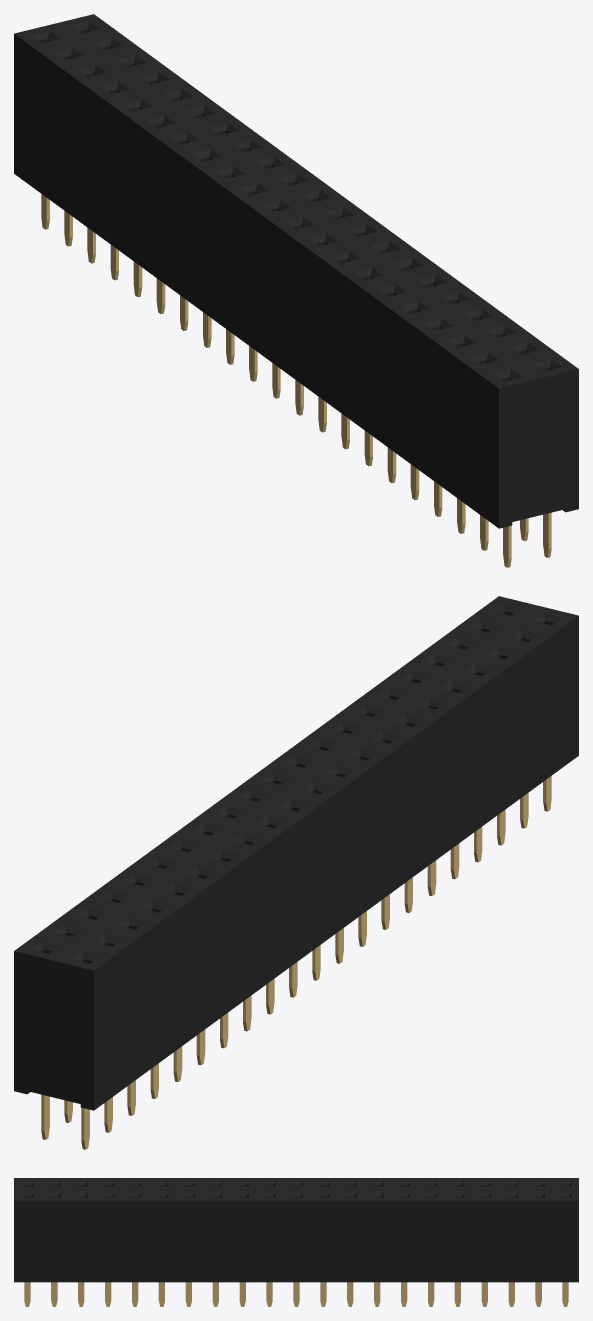
The model's file is kc-pinsocket_2x21_p2.54mm_vertical.glb.
The picture shows the model from 3 angles, top to bottom: view 1: azimuth 30°, elevation 25°; view 2: azimuth 150°, elevation 25°; view 3: azimuth 270°, elevation 25°; orthographic projection. The views are drawn at different scales.
Parts seen in each view (by area): view 1: 0_0_0_0, 0.75_0.5_0.25_0.9; view 2: 0_0_0_0, 0.75_0.5_0.25_0.9; view 3: 0_0_0_0, 0.75_0.5_0.25_0.9.
Part boxes in pixels (x1=…): 0_0_0_0: x1=14, y1=14, x2=578, y2=528; 0.75_0.5_0.25_0.9: x1=41, y1=194, x2=551, y2=567; 0_0_0_0: x1=14, y1=596, x2=578, y2=1110; 0.75_0.5_0.25_0.9: x1=41, y1=776, x2=551, y2=1149; 0_0_0_0: x1=14, y1=1178, x2=578, y2=1282; 0.75_0.5_0.25_0.9: x1=24, y1=1282, x2=568, y2=1306.
Size of the model in its own units: 0.5079 by 1.16 by 5.33.
